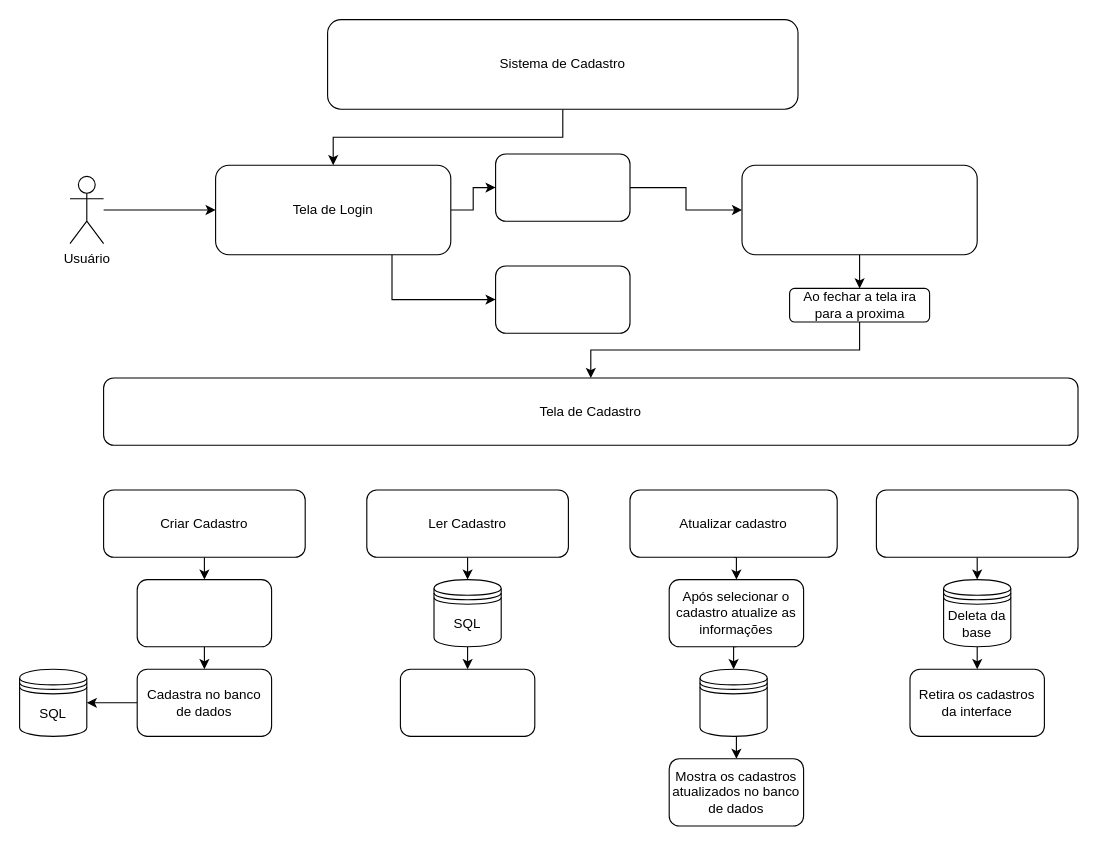
Some shapes in this 1098 by 846 pixel diagram are drawn without their labels. The shapes that lost their labels are listed below. From the top down, each one's centre as x and y in pixels, then its label:
At (x=562, y=187): "Autentica o usuário".
At (x=859, y=209): "Tela de confirmação de LOGIN".
At (x=562, y=299): "Login errado, retorna mensagem de erro".
At (x=976, y=523): "Deletar Cadastro".
At (x=204, y=612): "Adicione Nome, Estado e Tipo de contas".
At (x=467, y=702): "Mostra quais cadastros estão no banco de dados".
At (x=733, y=702): "Atualiza o SQL".
